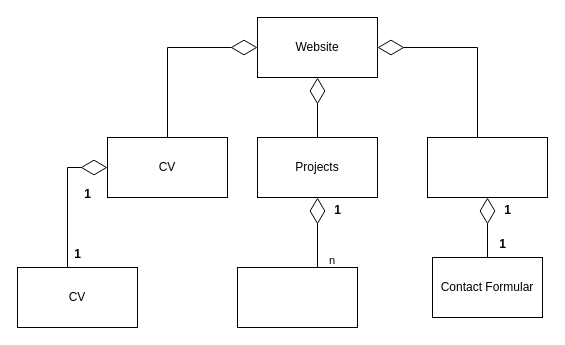
Some shapes in this 565 by 345 pixel diagram are drawn without their labels. The shapes that lost their labels are listed below. From the top down, each one's box as (x1, y1, x2, y2) in pixels, then its label:
(426, 136, 548, 198): Contact
(236, 266, 358, 328): GitHubProject
